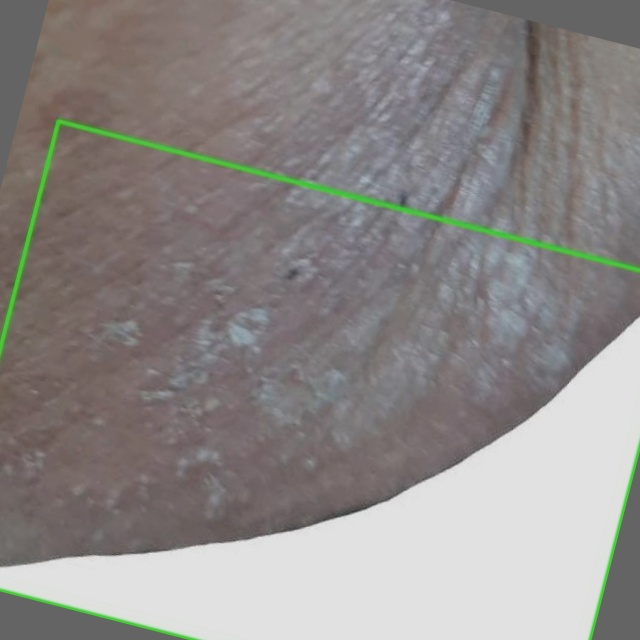Tinea Corporis: (0, 121, 639, 639)
